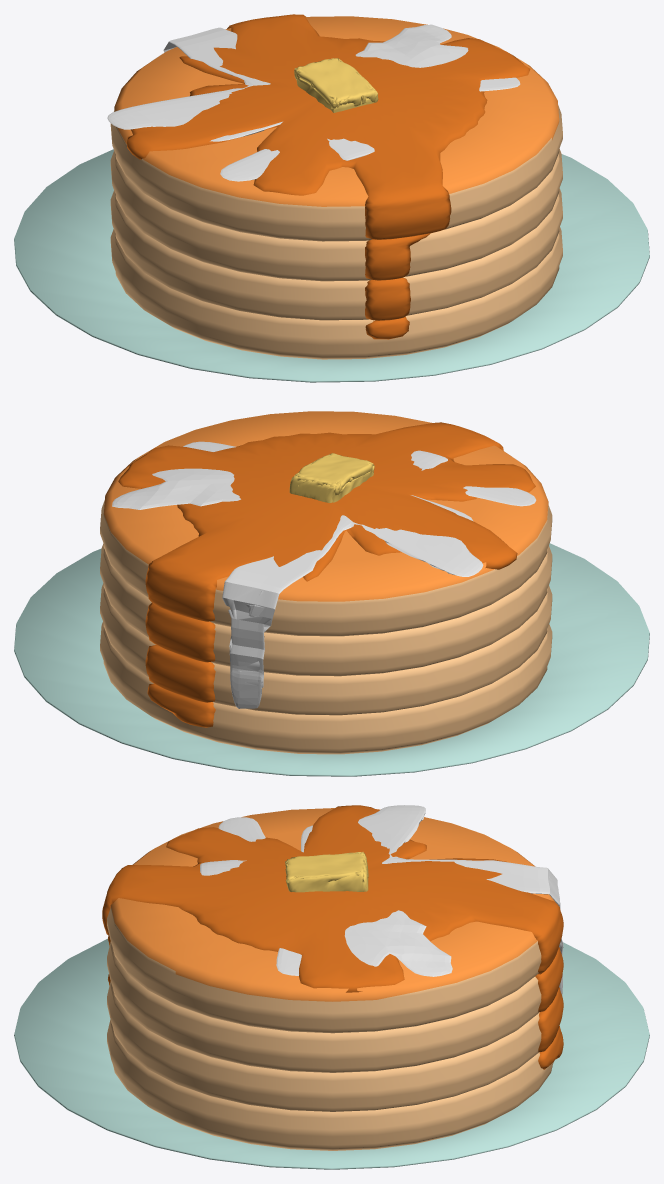
File: pancake.fbx
3 renders of one model, top to bottom at view 1: azimuth 30°, elevation 25°; view 2: azimuth 150°, elevation 25°; view 3: azimuth 270°, elevation 25°, orthographic.
Visible parts, largest first — view 1: Pancakes, Pancakes.002, Pancakes.005, Pancakes.001, Pancakes.004; view 2: Pancakes, Pancakes.002, Pancakes.005, Pancakes.001, Pancakes.004; view 3: Pancakes, Pancakes.002, Pancakes.005, Pancakes.001, Pancakes.004.
Boxes of the visible parts, x1,y1,x2,y2 form: Pancakes: (110,16,562,359); Pancakes.002: (126,14,530,339); Pancakes.005: (14,149,649,382); Pancakes.001: (107,24,520,181); Pancakes.004: (294,58,378,112); Pancakes: (100,411,552,754); Pancakes.002: (118,422,535,727); Pancakes.005: (14,543,649,776); Pancakes.001: (112,441,536,708); Pancakes.004: (289,453,374,502); Pancakes: (107,808,555,1150); Pancakes.002: (102,805,563,1069); Pancakes.005: (14,938,649,1169); Pancakes.001: (200,805,563,995); Pancakes.004: (285,852,368,892).
Bounding box in the file's own units: 460 × 176 × 460.
